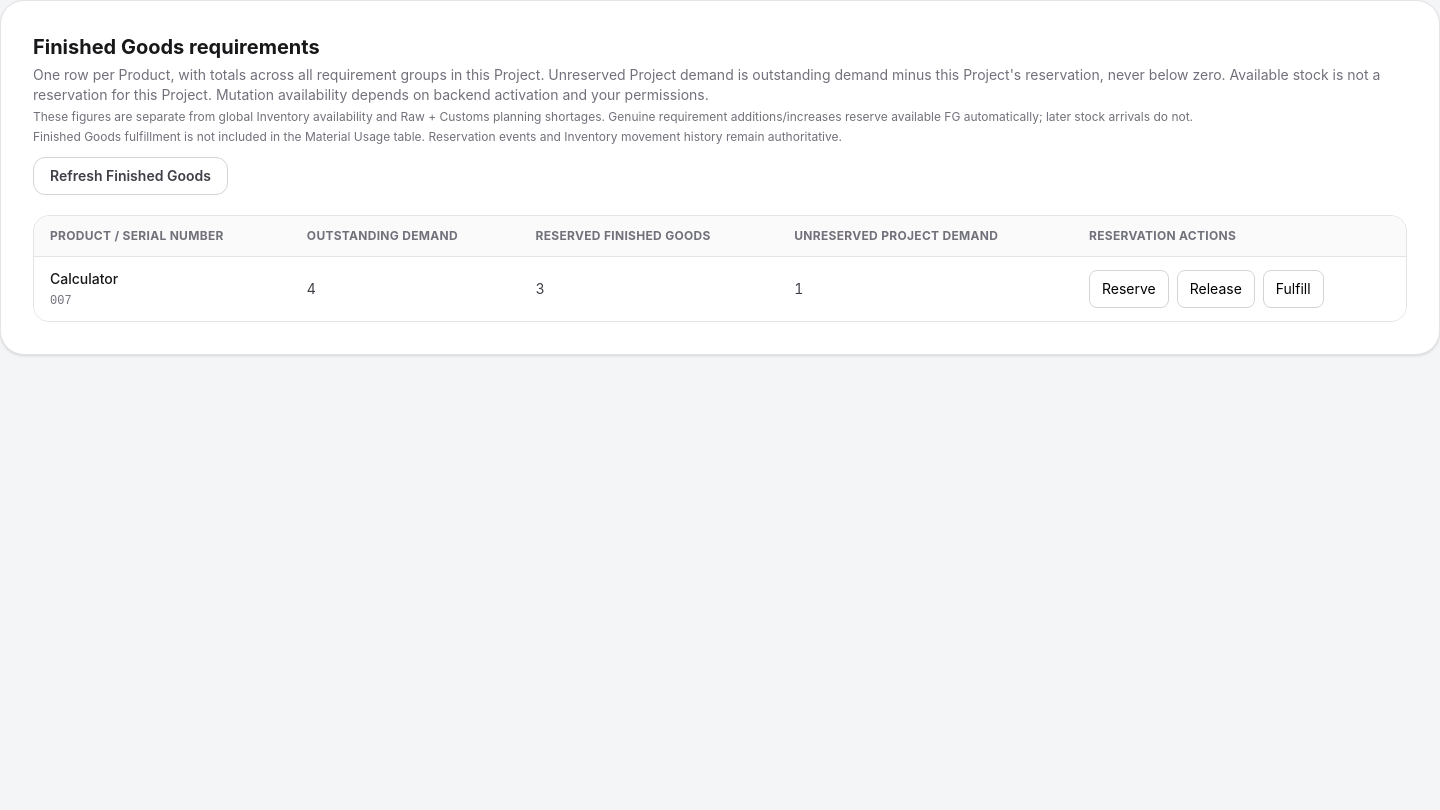
Test case: Project Finished Goods mutation UI › bounds Reserve by unreserved demand and preserves leading-zero serial text
The image size is (1440, 810).
Click the button with aria-label "Reserve Calculator" at (1129, 289), box [1089,270,1169,308]
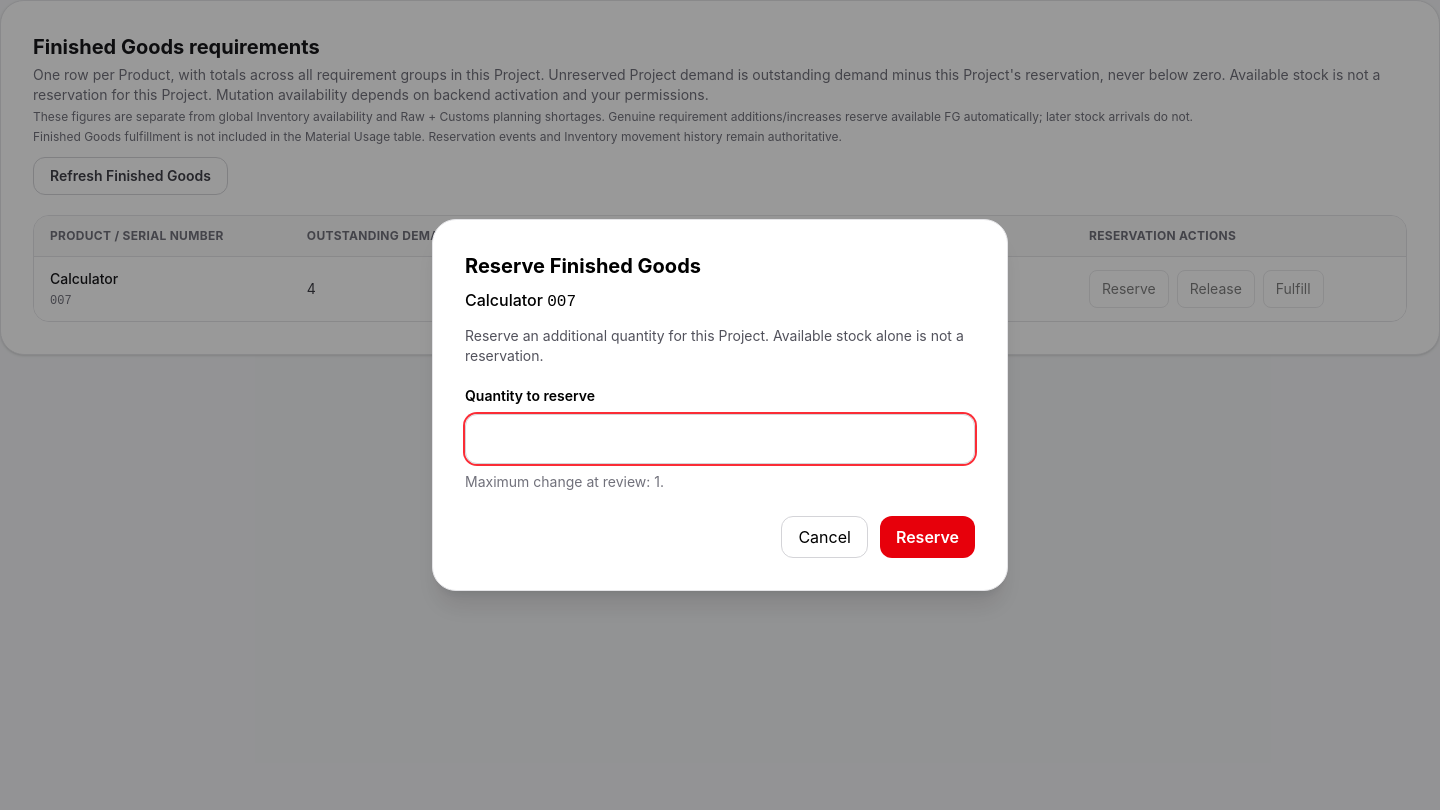
Expected: the button "Reserve" is enabled, [880,516,975,558]
Expected: the text "Maximum change at review: 1." is shown, [465,473,664,490]
Expected: the text "007" is shown, [547,293,576,311]
